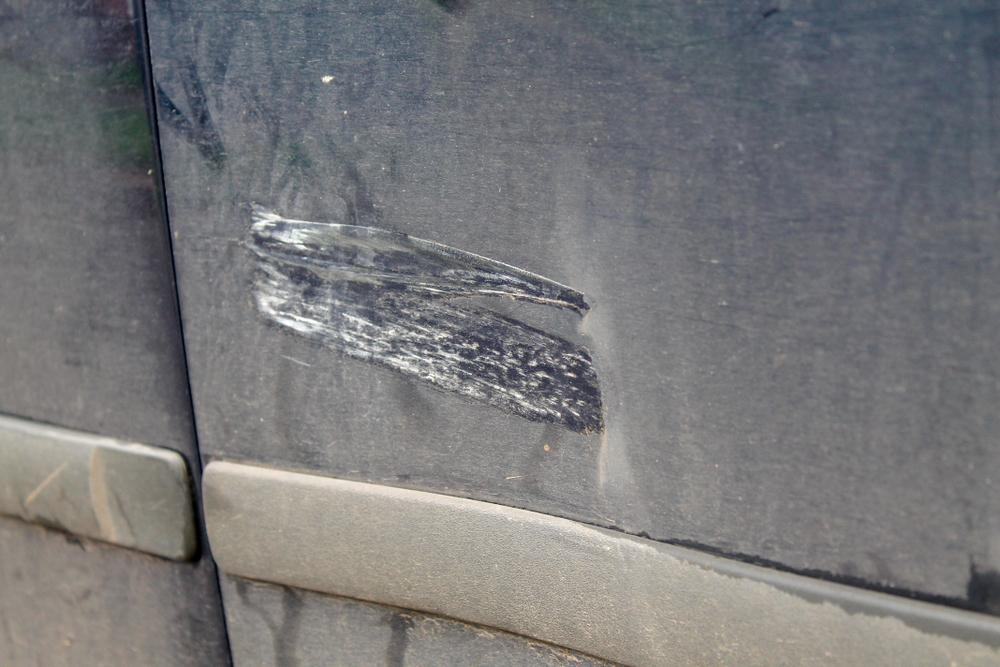scratch: (244, 198, 610, 442)
